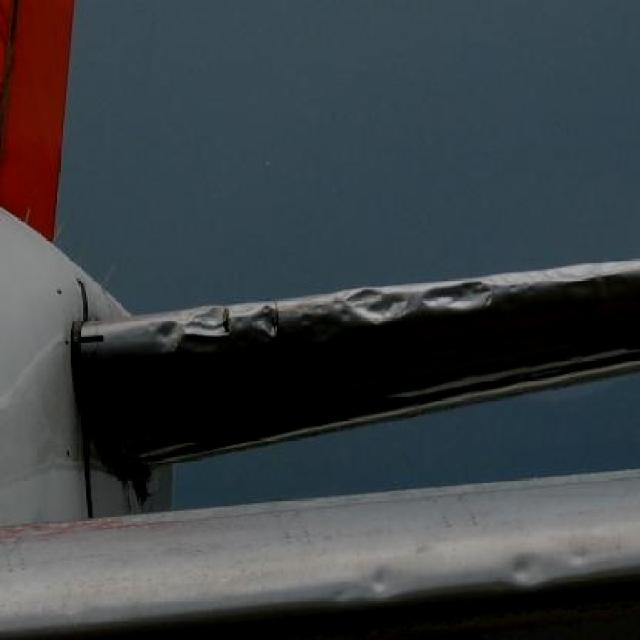dent: (347, 289, 409, 323), (423, 284, 492, 309), (184, 310, 227, 338), (511, 552, 537, 586), (156, 318, 181, 349), (252, 306, 275, 339), (369, 568, 394, 597), (569, 544, 592, 572), (332, 589, 345, 605)
